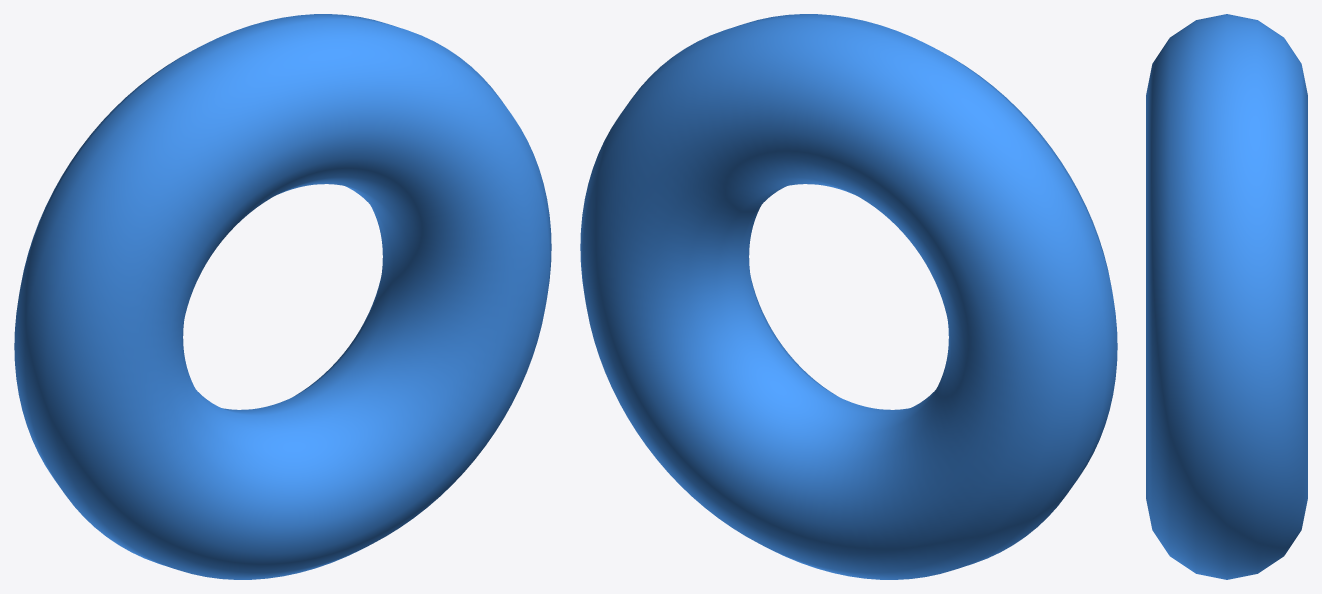
The picture shows the model from 3 angles, left to right: view 1: azimuth 30°, elevation 25°; view 2: azimuth 150°, elevation 25°; view 3: azimuth 270°, elevation 25°; orthographic projection. The views are drawn at different scales.
Bounding box in the file's own units: 2.8 × 2.8 × 0.8.
